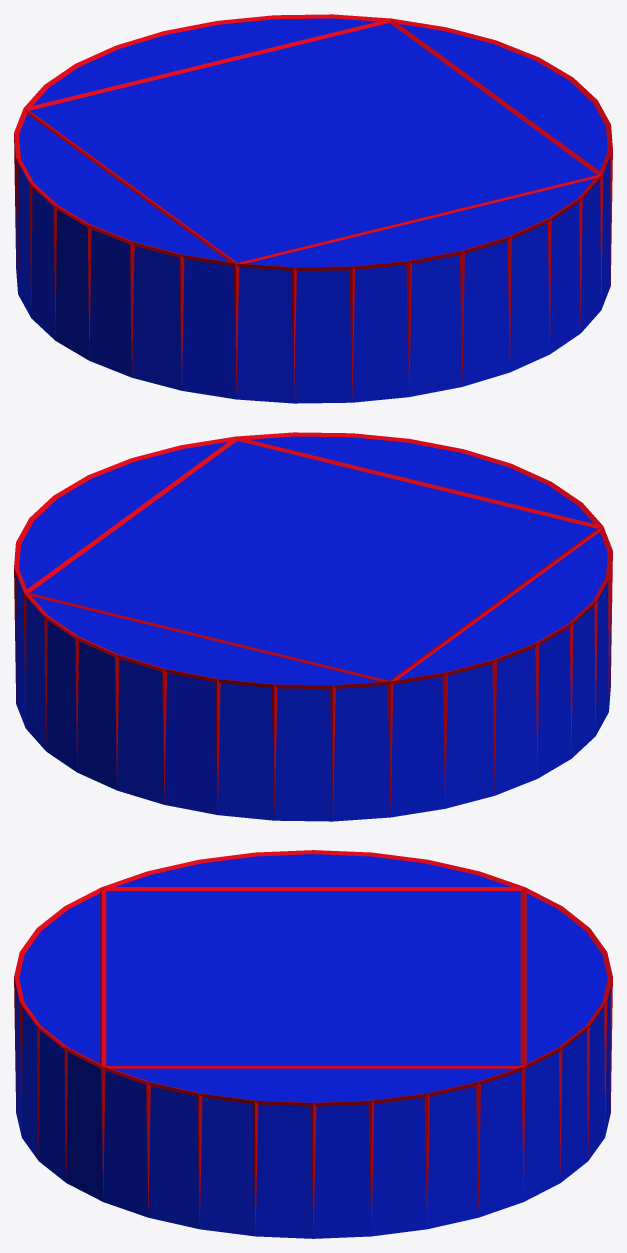
File: Square_Button.fbx
3 views of the same model, one above another, from view 1: azimuth 30°, elevation 25°; view 2: azimuth 150°, elevation 25°; view 3: azimuth 270°, elevation 25° (orthographic).
Visible parts, largest first — view 1: Square_Button.002; view 2: Square_Button.002; view 3: Square_Button.002.
Part boxes in pixels (box(x1,y1,x2,y2)): Square_Button.002: box(14, 14, 612, 403); Square_Button.002: box(14, 432, 612, 821); Square_Button.002: box(14, 850, 612, 1238).
Bounding box in the file's own units: 201 × 50.69 × 201.
